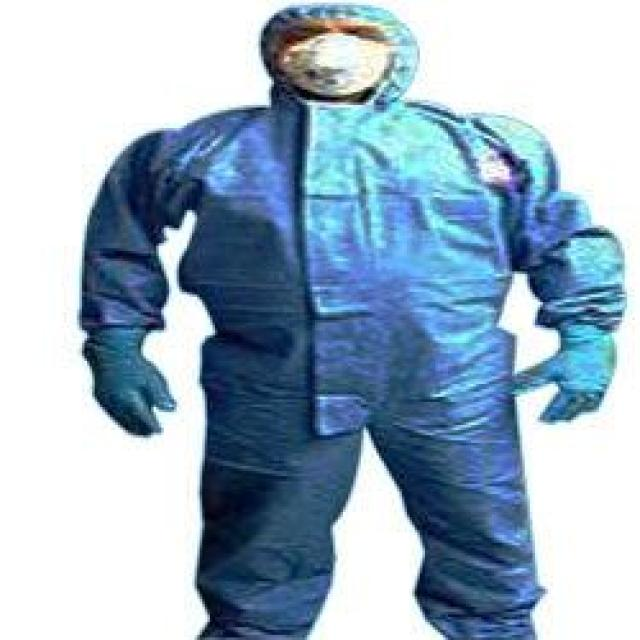Gloves: (77, 325, 182, 446), (510, 323, 628, 428)
Mask: (274, 28, 389, 95)
